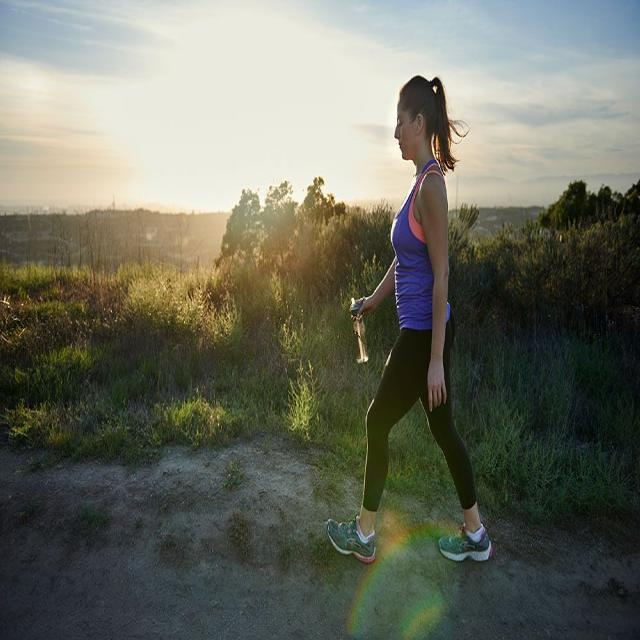Person: (325, 75, 496, 564)
